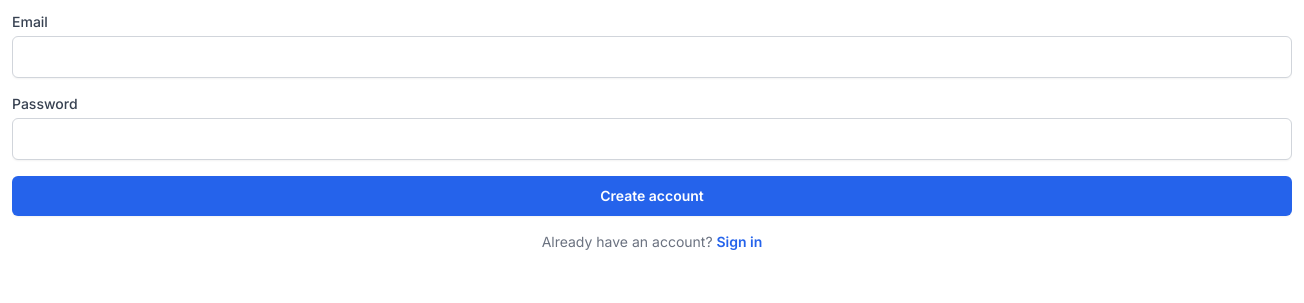
Scenario: RegisterForm › shows error message on registration failure
This screenshot has width=1304, height=303.
In the field labelled "Email": (652, 57) [12,36,1292,78], type "test@example.com"
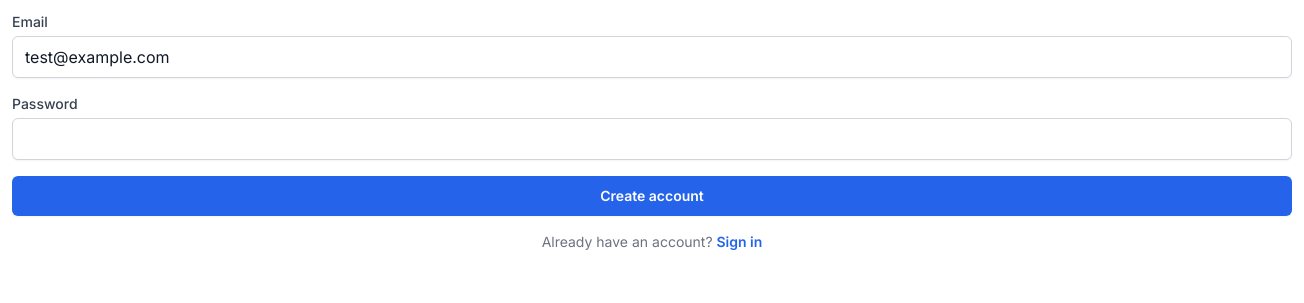
In the password field labelled "Password": (652, 139) [12,118,1292,160], type "password123"
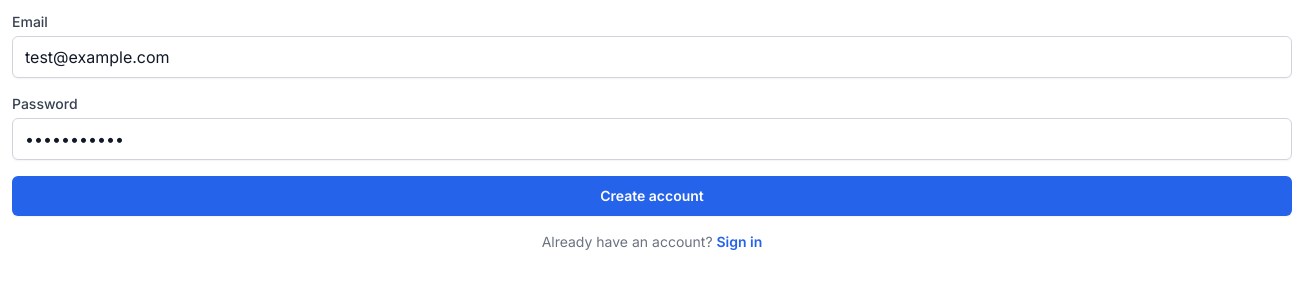
Submit the form from the button "Create account", box [12,176,1292,216]
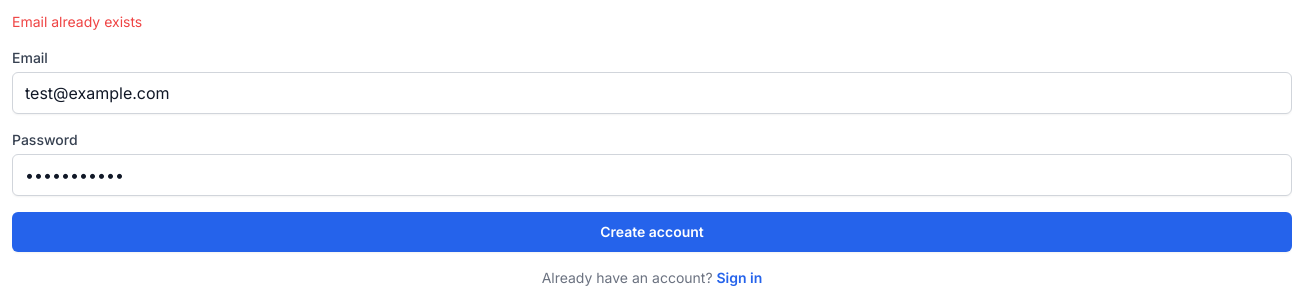
Result: the text with test id "error-message" reads "Email already exists" at [12,13,142,30]
